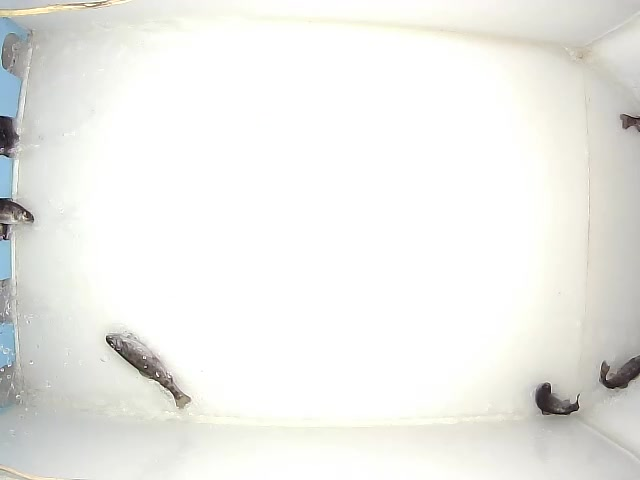fish: (107, 330, 195, 416)
